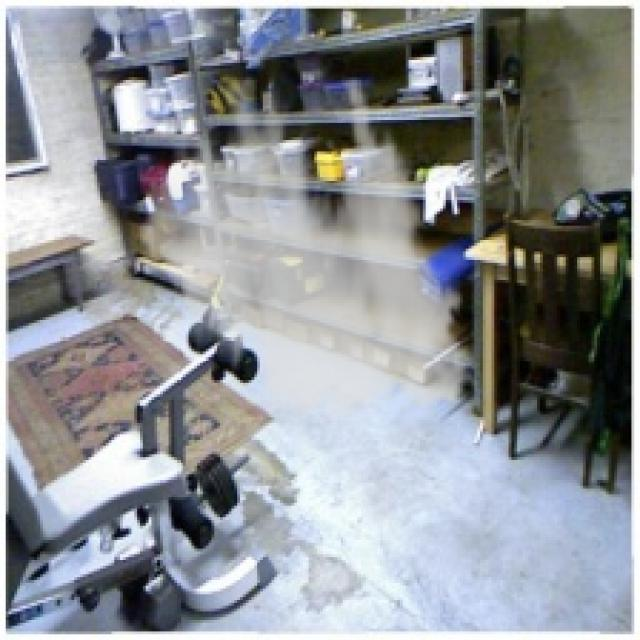smoke: (128, 77, 488, 437)
